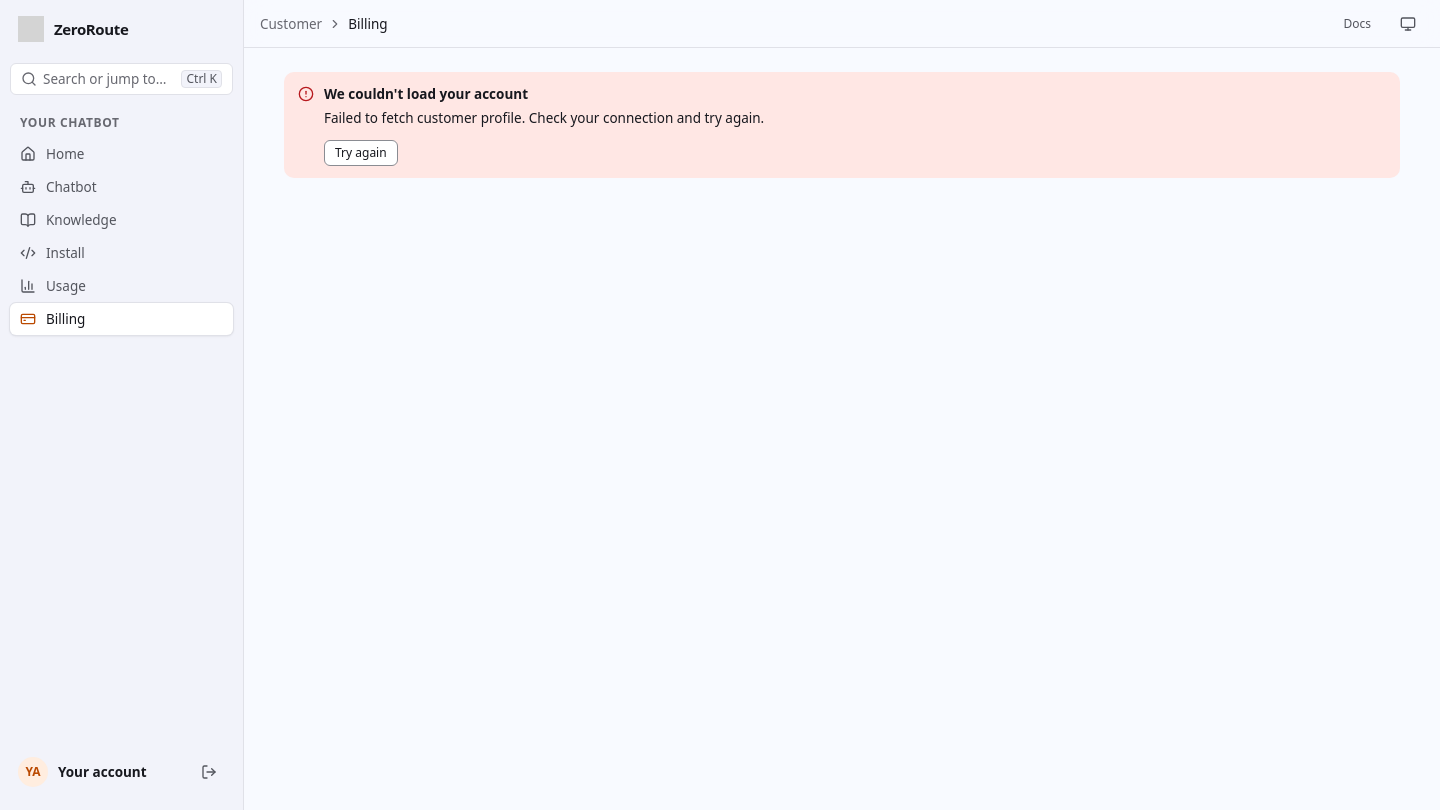
shows a load error with a retry instead of a blank page
This screenshot has width=1440, height=810.
Expected: the message shows "Failed to fetch customer profile.", 324,109 -> 525,127
Step 1. Click the button "Try again" → (361, 153), box 324,140 -> 398,166
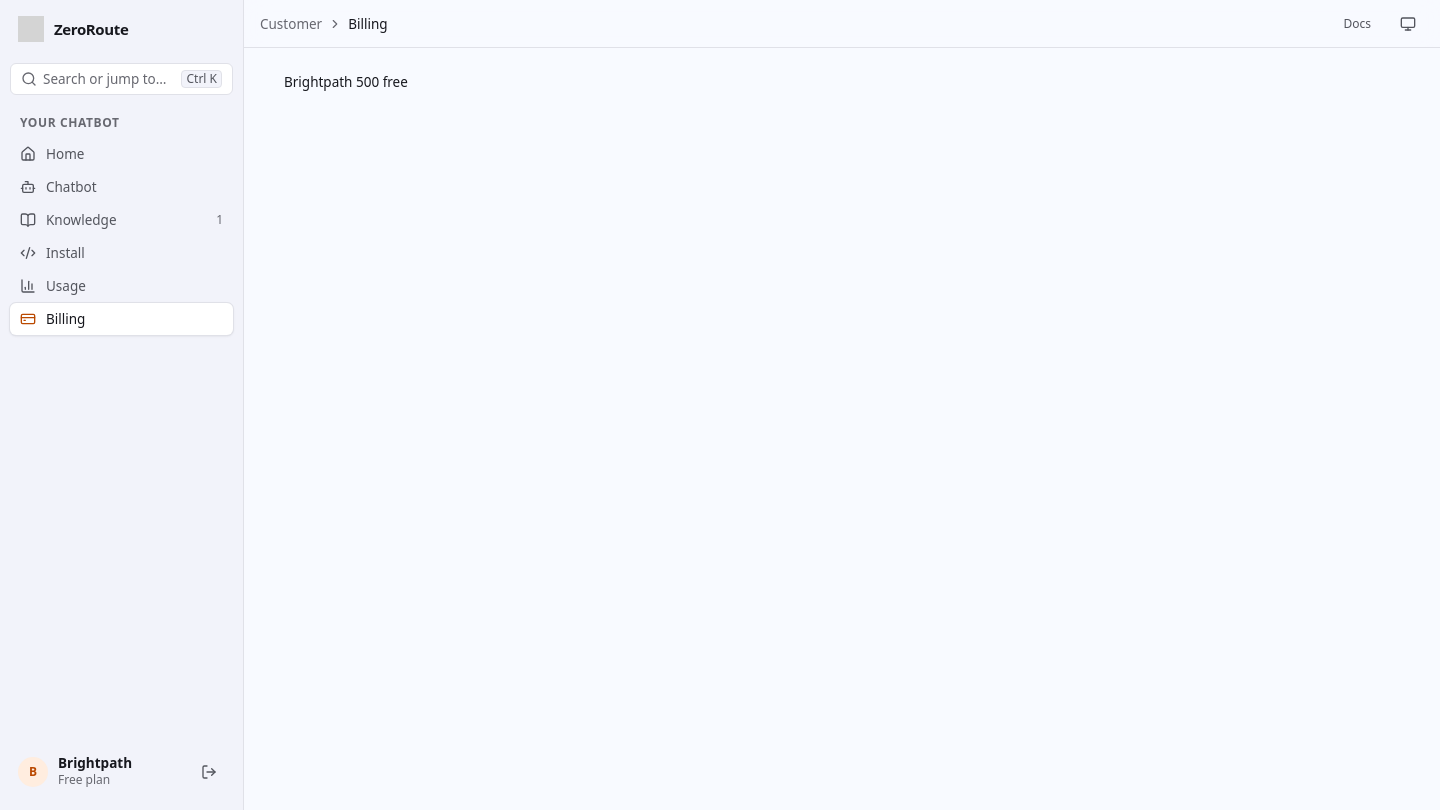
Expected: the text "Brightpath 500 free" is shown, 284,73 -> 408,91
Expected: the message is gone
